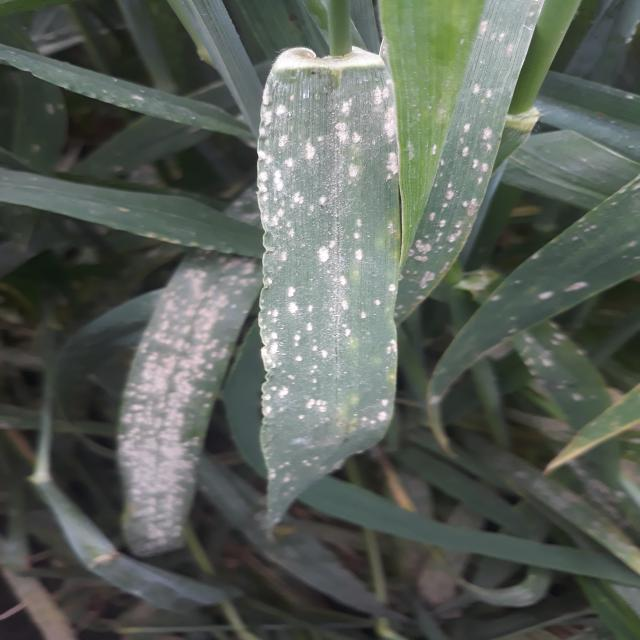powder_mildew: (202, 53, 458, 527), (464, 160, 640, 640), (90, 236, 306, 583), (396, 0, 566, 271), (0, 9, 185, 182)
